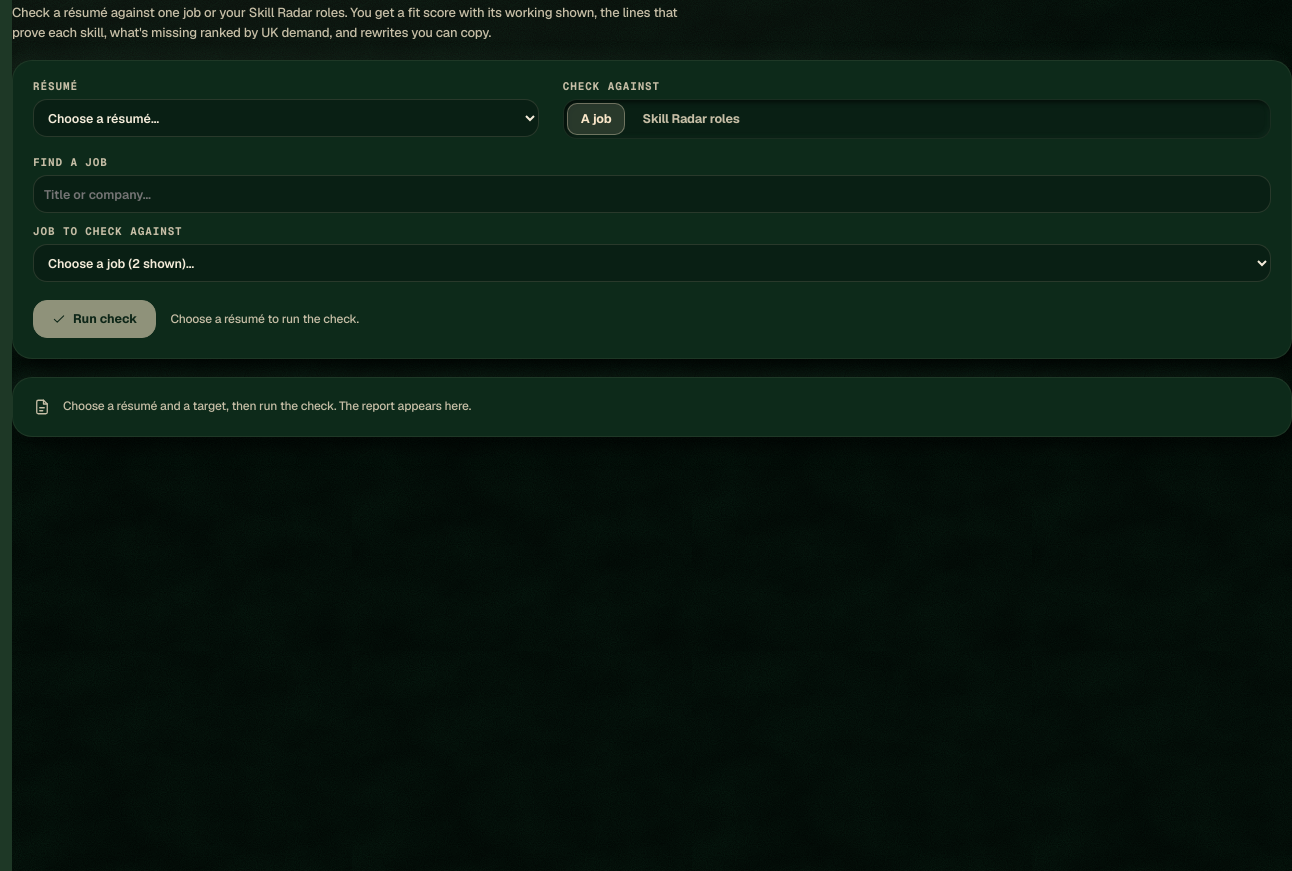
Scenario: ResumeCheckerPage › renders the score, its components and the formula
This screenshot has width=1292, height=871.
Step 1. Select "Suraj_AIPM.pdf" in the dropdown labelled "Résumé" → (286, 118), box 33,99 -> 539,137
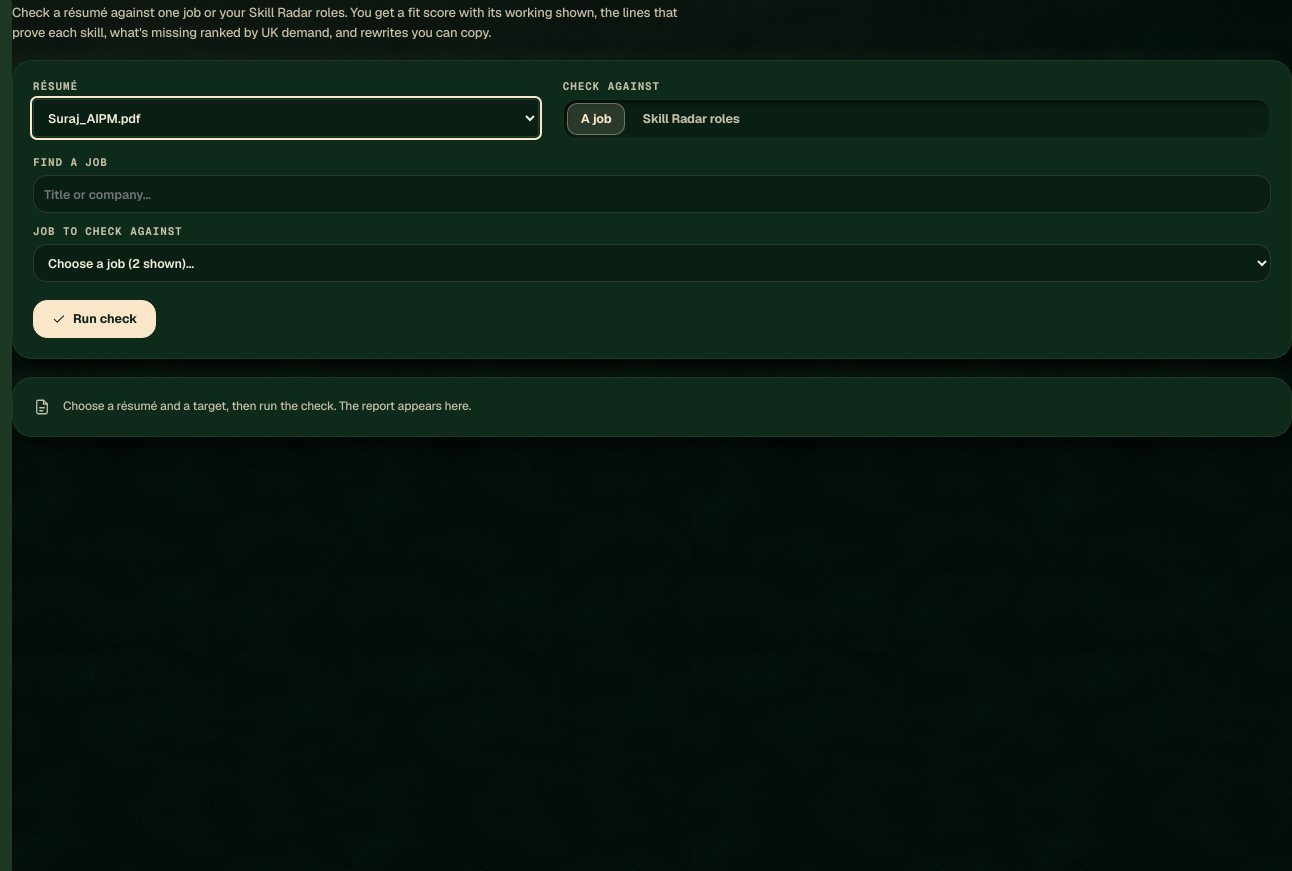
Step 2. Select "Senior Frontend Engineer · Acme Corp" in the dropdown labelled "Job to check against" → (652, 263), box 33,244 -> 1271,282
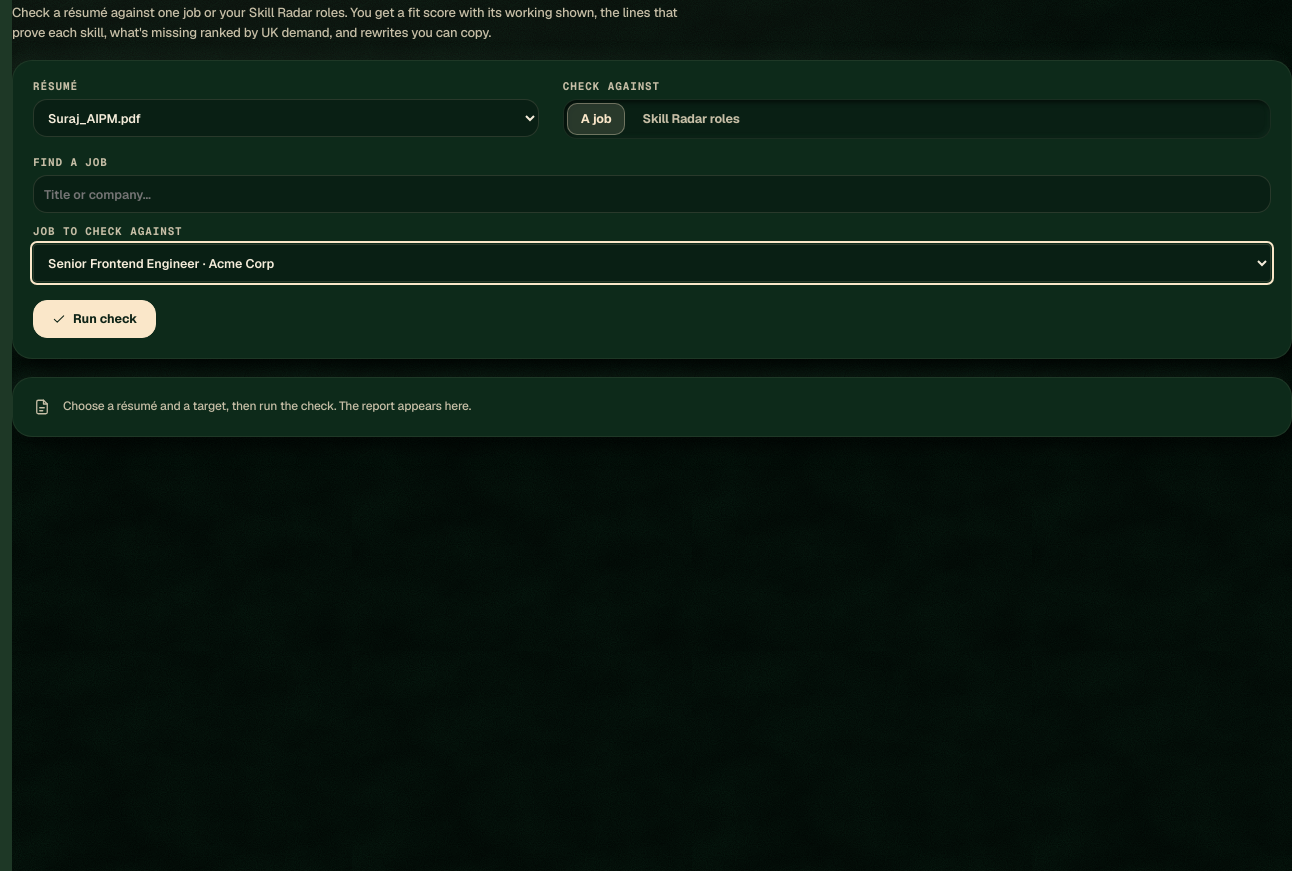
Step 3. Click the button "Run check" → (95, 319), box 33,300 -> 156,338
(page scrolled)
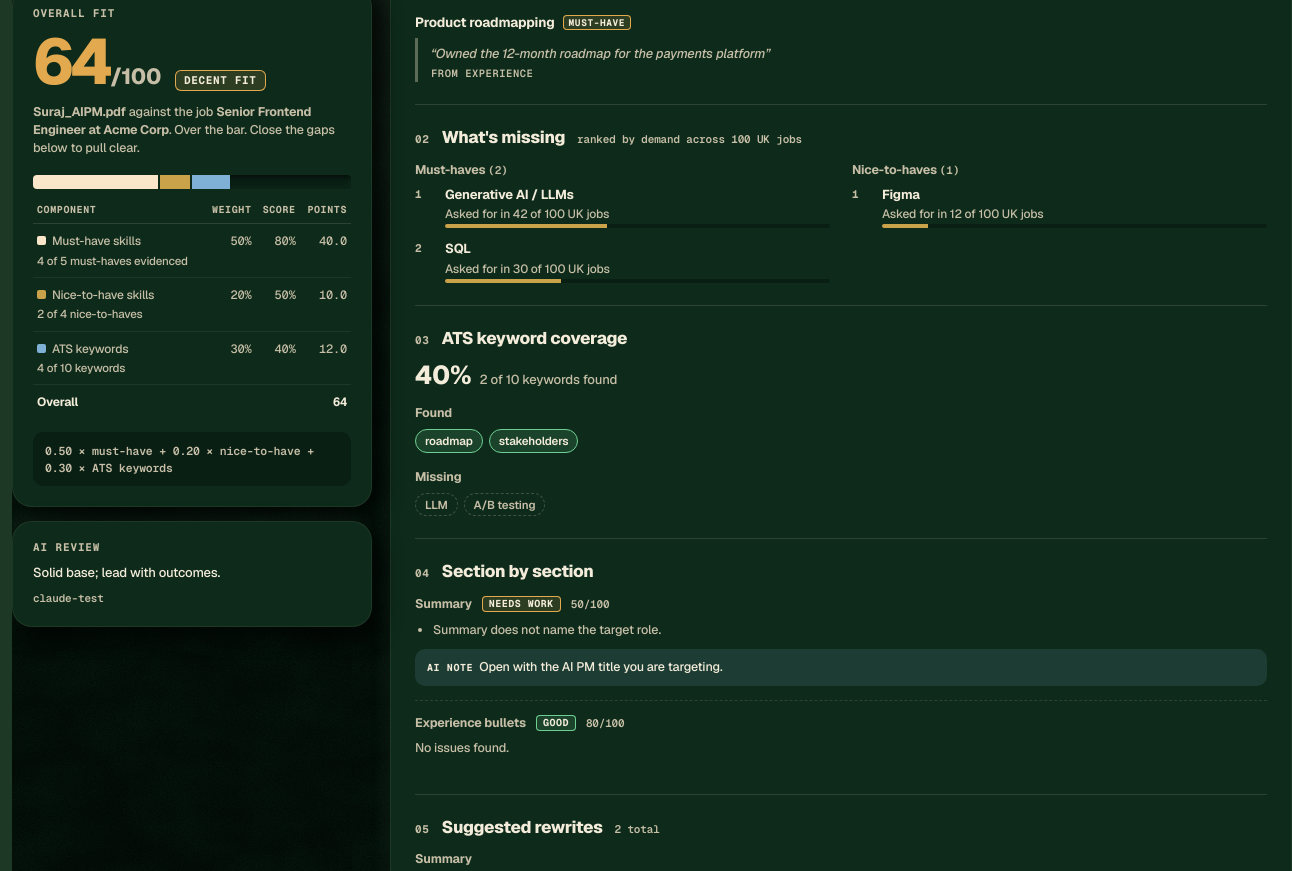
Expected: the heading "Overall fit" is shown, 33,6 -> 115,20
Expected: the element showing "64/100" is shown, 33,33 -> 161,91
Expected: the text "64" is shown, 300,385 -> 351,419
